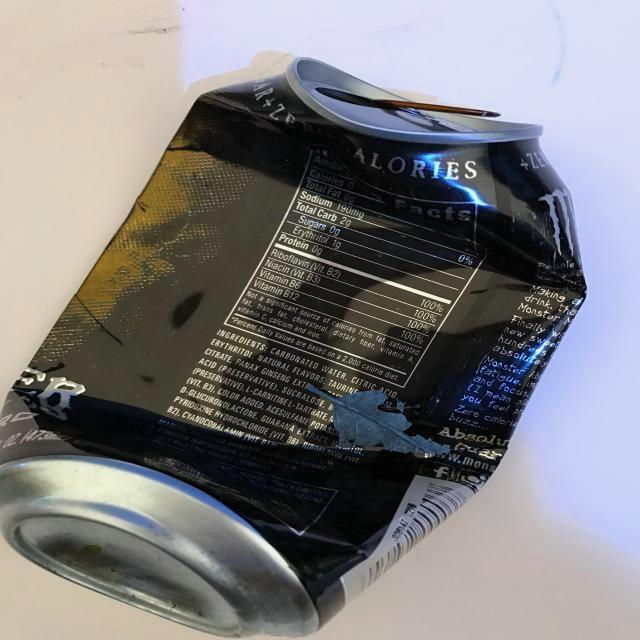metal: (1, 43, 618, 637)
